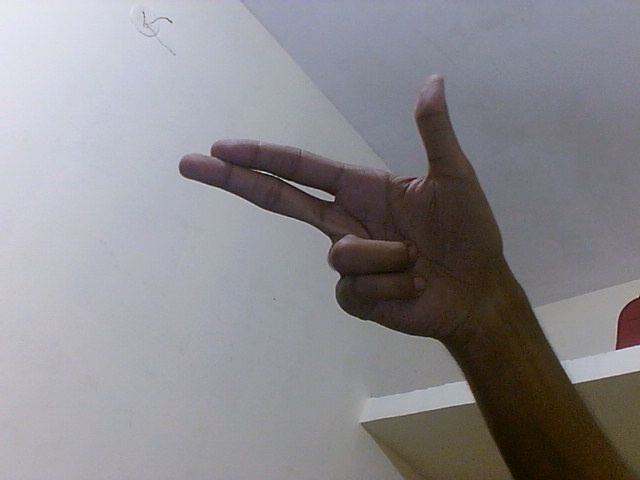hand: (173, 71, 507, 352)
